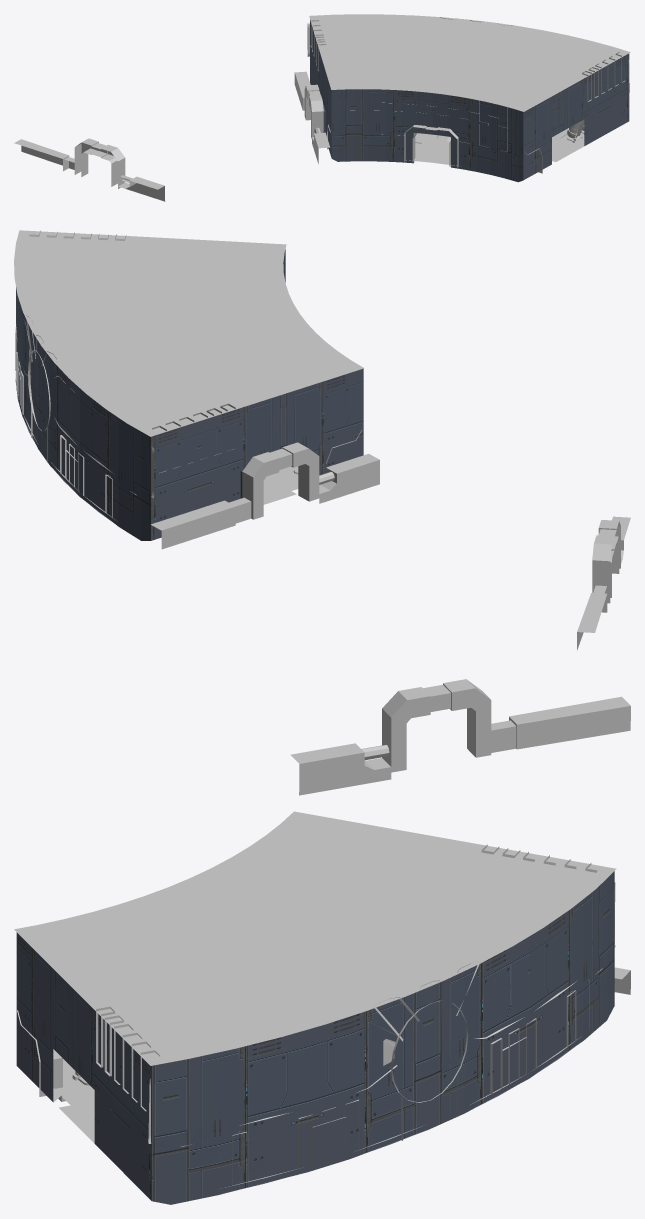
File: pve_research_p3.FBX
3 renders of one model, top to bottom at view 1: azimuth 30°, elevation 25°; view 2: azimuth 150°, elevation 25°; view 3: azimuth 270°, elevation 25°, orthographic. The views are drawn at different scales.
Parts seen in each view (by area): view 1: pve_research_tubo, pve_research_wall, pve_research_door (×2), pve_research_ground_01, pve_research_machines_01; view 2: pve_research_tubo, pve_research_wall, pve_research_door, pve_research_machines_01 (×2), pve_research_ground_01; view 3: pve_research_tubo, pve_research_wall, pve_research_door, pve_research_machines_01 (×2), pve_research_ground_01, pve_research_machines_02, pve_gymnasium_area08_glass_01.
Boxes of the visible parts, bbox=[...] form: pve_research_tubo: bbox=[309, 14, 630, 111]; pve_research_wall: bbox=[310, 19, 629, 182]; pve_research_door (×2): bbox=[14, 71, 458, 201]; pve_research_ground_01: bbox=[414, 128, 584, 166]; pve_research_machines_01: bbox=[310, 20, 625, 101]; pve_research_tubo: bbox=[14, 230, 363, 436]; pve_research_wall: bbox=[16, 249, 363, 540]; pve_research_door: bbox=[151, 442, 630, 650]; pve_research_machines_01 (×2): bbox=[15, 230, 235, 517]; pve_research_ground_01: bbox=[263, 469, 298, 504]; pve_research_tubo: bbox=[14, 811, 616, 1065]; pve_research_wall: bbox=[16, 871, 614, 1204]; pve_research_door: bbox=[290, 679, 630, 994]; pve_research_machines_01 (×2): bbox=[96, 844, 602, 1185]; pve_research_ground_01: bbox=[53, 1088, 94, 1143]; pve_research_machines_02: bbox=[148, 882, 615, 1143]; pve_gymnasium_area08_glass_01: bbox=[55, 1037, 580, 1187].
Size of the model in its own units: 81721 by 11580 by 44283.
